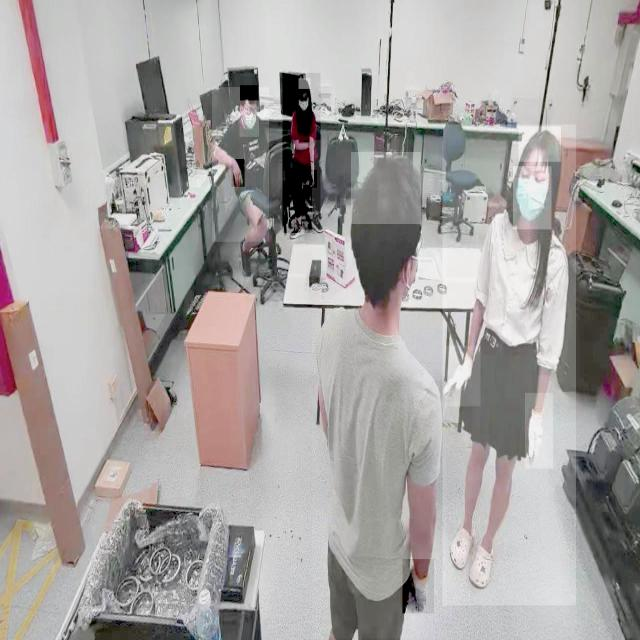face_mask: (513, 167, 551, 230), (239, 107, 259, 137)
hand_glove: (445, 346, 481, 407), (525, 393, 553, 469), (402, 559, 434, 614)
hand_noglove: (231, 159, 245, 188), (309, 170, 317, 188)
head_nohelmet: (351, 152, 421, 225), (518, 126, 561, 163), (240, 85, 258, 102), (298, 78, 310, 90)
person: (312, 140, 446, 639), (442, 124, 576, 606), (211, 87, 269, 243), (282, 73, 320, 234)
